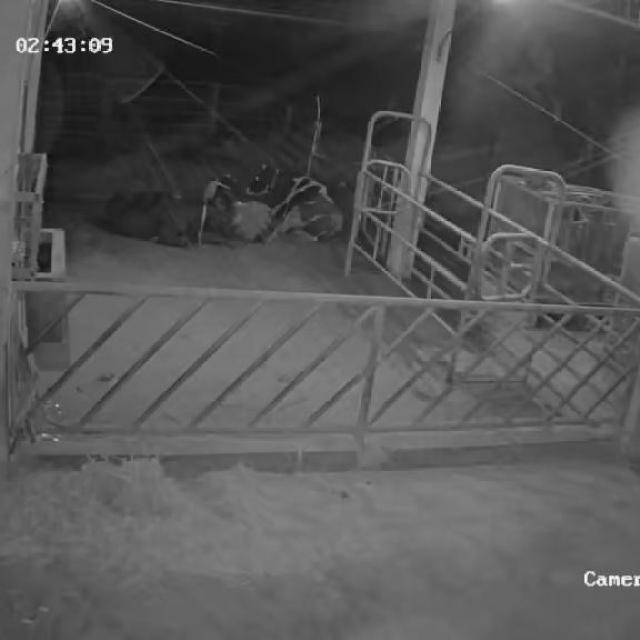lying down: (98, 184, 240, 254), (245, 157, 348, 244)
